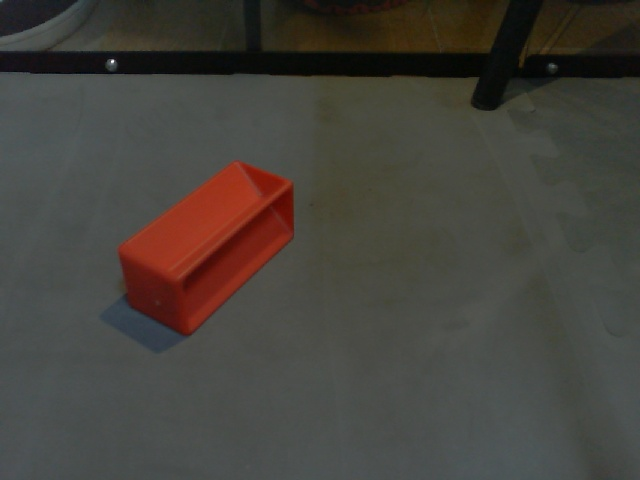RedSample: (115, 159, 296, 339)
